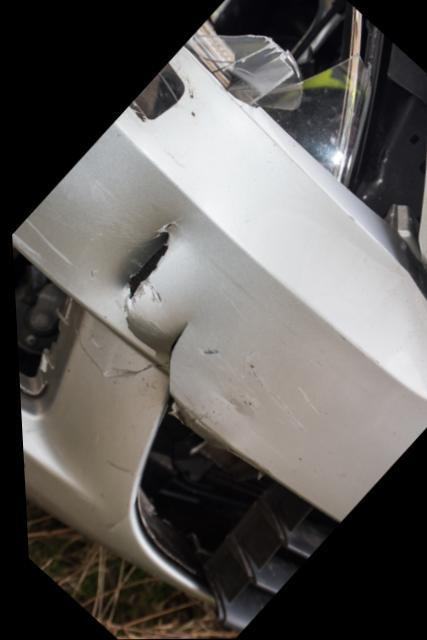crack: (73, 221, 184, 403)
no part: (201, 0, 427, 237), (10, 244, 70, 386)
scratch: (180, 337, 320, 437)
